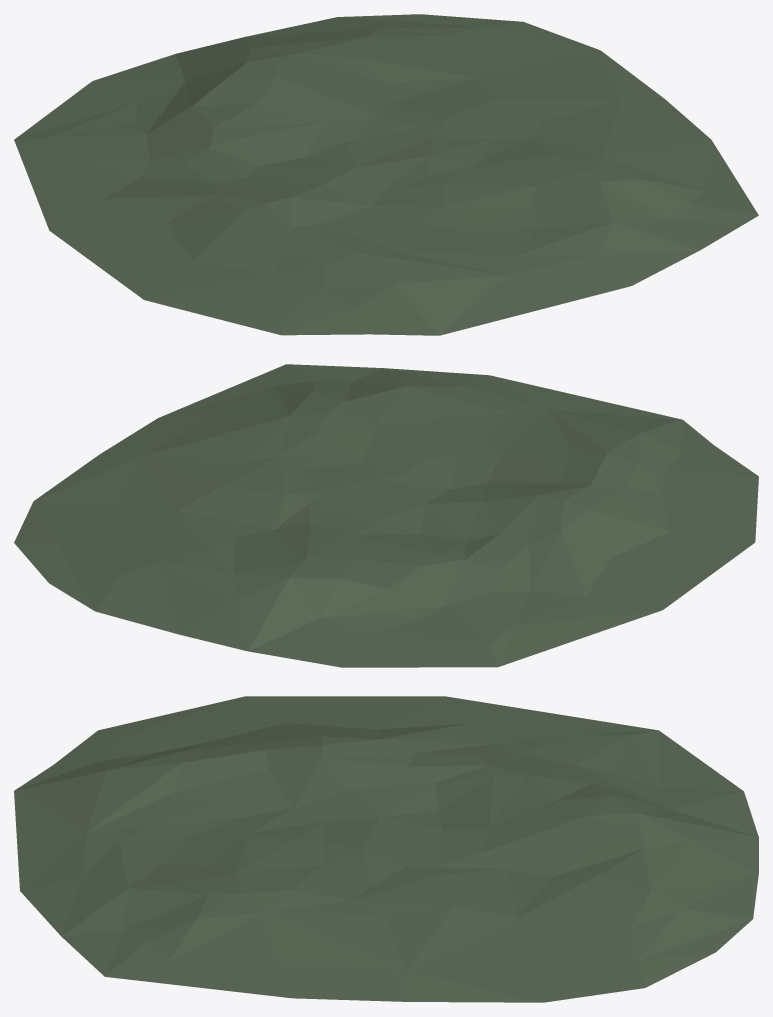
File: SM_Generic_Ground_01.fbx
The picture shows the model from 3 angles, top to bottom: view 1: azimuth 30°, elevation 25°; view 2: azimuth 150°, elevation 25°; view 3: azimuth 270°, elevation 25°; orthographic projection. The views are drawn at different scales.
Visible parts, largest first — view 1: SM_Generic_Ground_01; view 2: SM_Generic_Ground_01; view 3: SM_Generic_Ground_01.
Boxes of the visible parts, <box> form: SM_Generic_Ground_01: <box>14,14,758,335</box>; SM_Generic_Ground_01: <box>14,364,758,667</box>; SM_Generic_Ground_01: <box>14,696,758,1002</box>.
Bounding box in the file's own units: 553 × 27.59 × 568.
